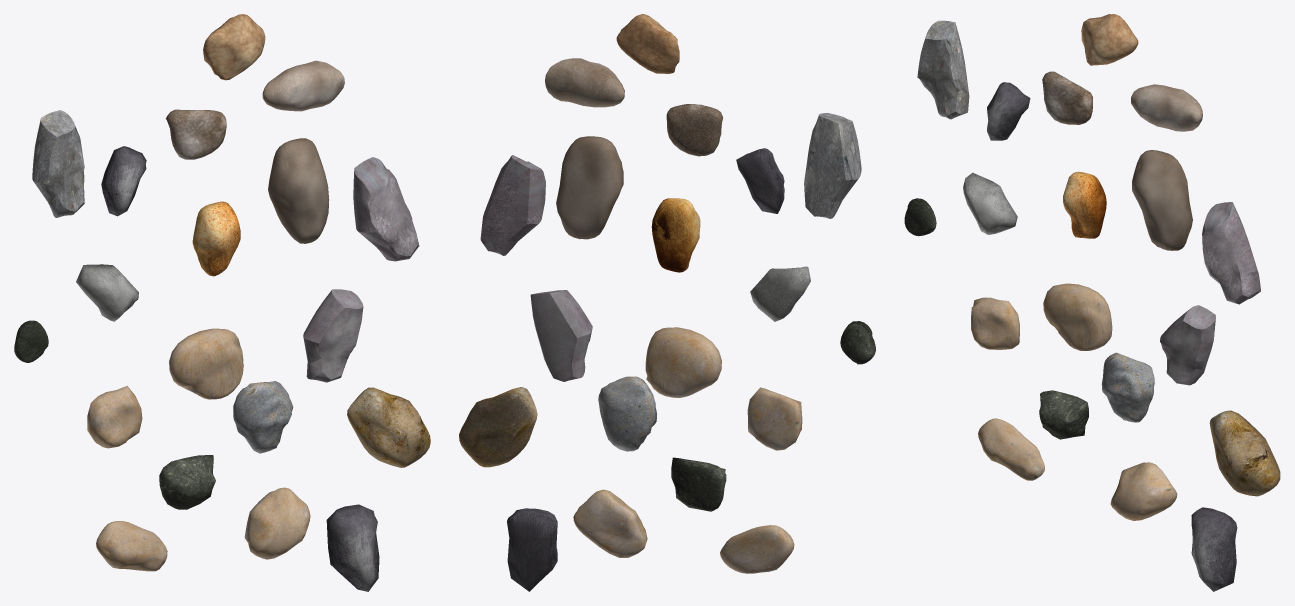
The model's file is stones.obj.
3 renders of one model, left to right at view 1: azimuth 30°, elevation 25°; view 2: azimuth 150°, elevation 25°; view 3: azimuth 330°, elevation 25°, orthographic. The views are drawn at different scales.
Visible parts, largest first — view 1: 5, 4, 1_2_, Box13, 12, Box04, 2, 14, 13, 6, 7, 15 (+7 smaller); view 2: 5, Box13, 4, 1_2_, 12, Box04, 2, 13, 14, 6, 1, 15 (+7 smaller); view 3: 5, 1_2_, 4, Box13, 12, 2, Box04, 13, 14, 6, 15, 1 (+7 smaller).
Part boxes in pixels (x1,y1,x2,y2): 5: (268,138,329,243); 4: (353,157,419,261); 1_2_: (347,387,430,467); Box13: (32,110,84,217); 12: (169,328,243,399); Box04: (303,289,363,382); 2: (326,504,379,591); 14: (244,487,310,559); 13: (233,381,293,453); 6: (262,60,344,111); 7: (203,14,265,80); 15: (96,521,167,571); 5: (556,136,623,239); Box13: (804,113,861,218); 4: (480,155,545,255); 1_2_: (459,387,537,467); 12: (645,327,721,397); Box04: (530,290,592,381); 2: (507,508,557,591); 13: (598,376,657,451); 14: (573,489,647,557); 6: (545,58,624,107); 1: (651,198,700,272); 15: (720,525,794,573); 5: (1132,150,1192,250); 1_2_: (1209,410,1280,496); 4: (1202,202,1260,304); Box13: (917,20,969,119); 12: (1043,283,1112,350); 2: (1191,507,1237,591); Box04: (1160,305,1215,385); 13: (1101,352,1154,422); 14: (1110,462,1177,520); 6: (1131,84,1202,131); 15: (978,418,1044,480); 1: (1063,171,1106,238).
Size of the model in its own units: 693 by 969 by 78.44.
17 materials, 17 textured.
